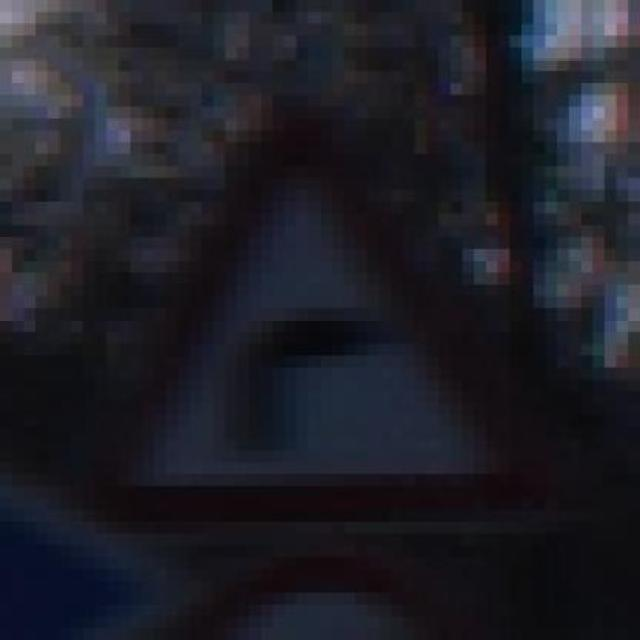Dangerous Rright Curve Ahead: (72, 94, 546, 546)
